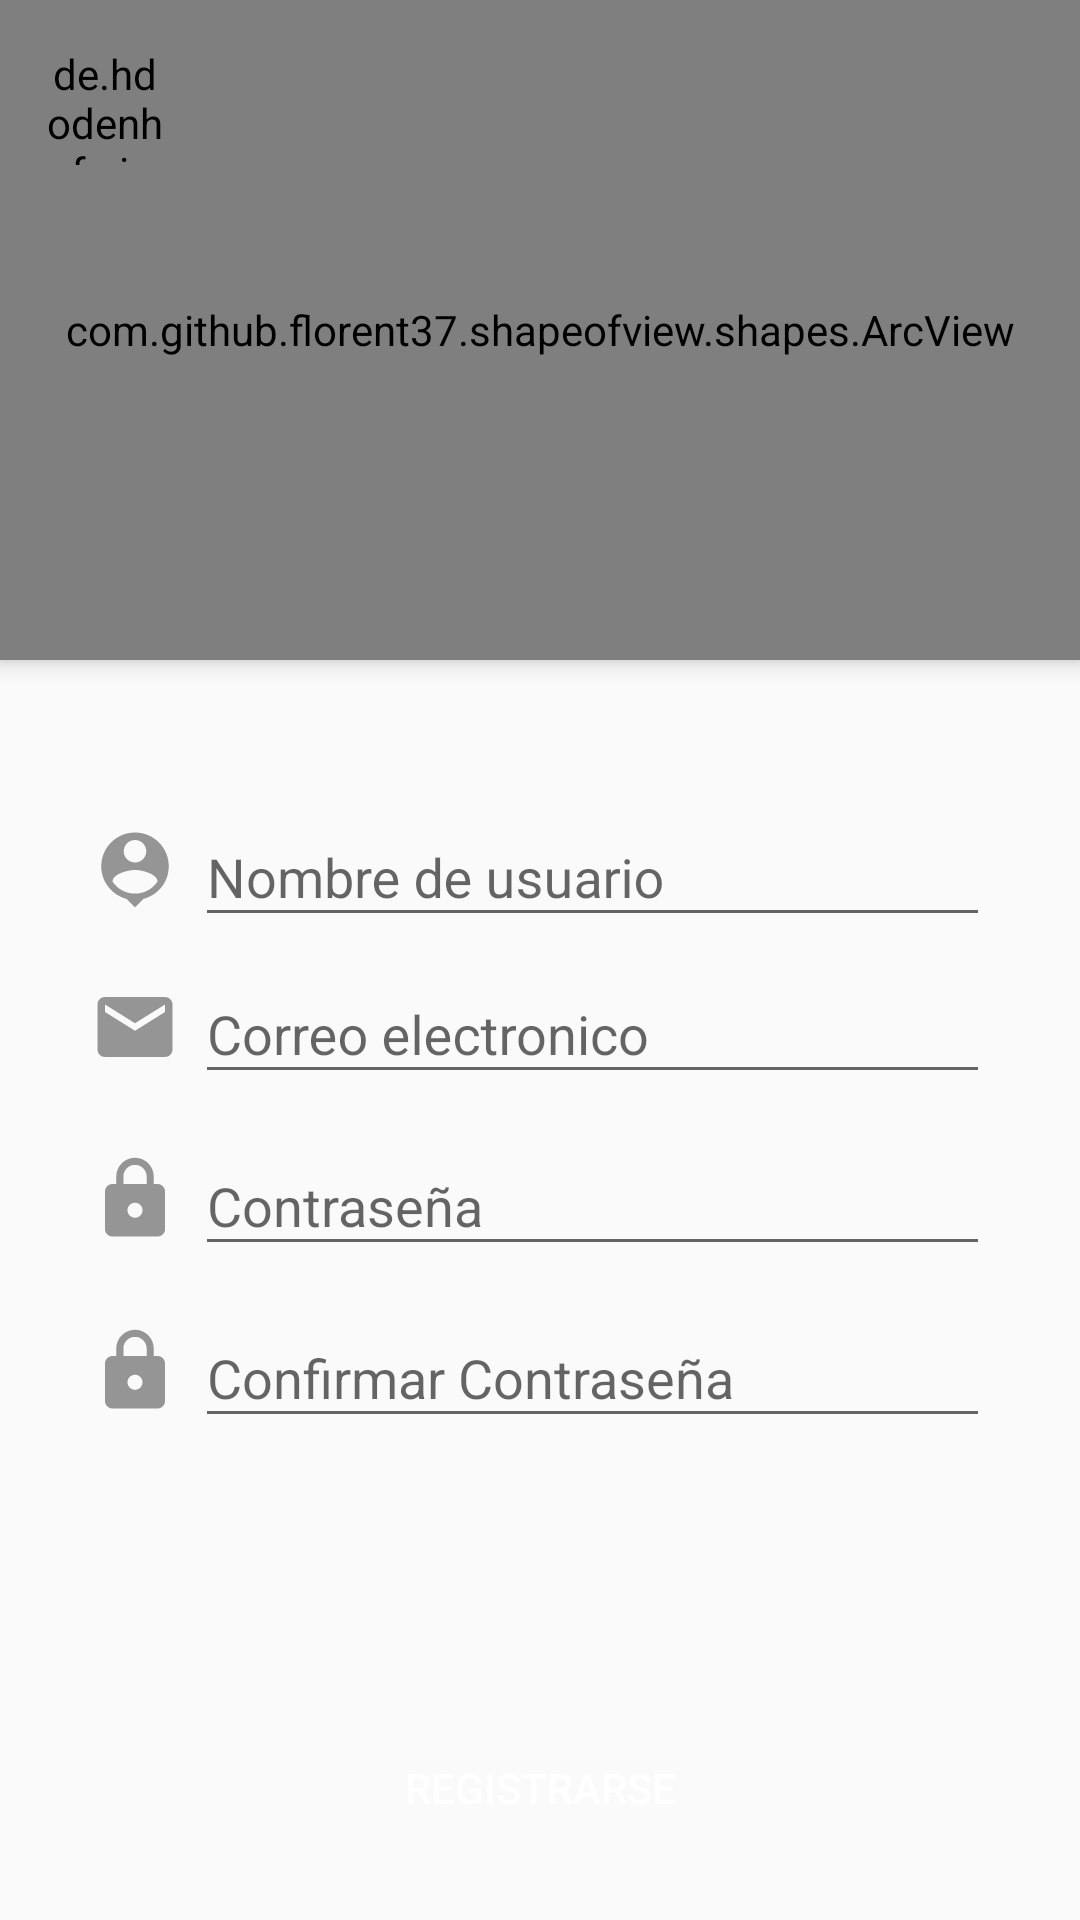

Where icons sit on this 1080×1920 app screen, as (x1, y1, x2, y2):
ice email: (97, 997, 173, 1057)
password: (105, 1157, 165, 1237), (105, 1329, 165, 1409)
person pin: (101, 832, 169, 907)
